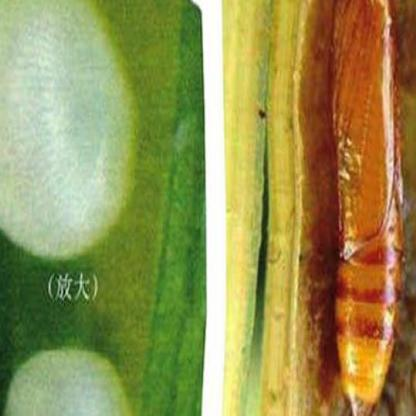whorl-maggot: (326, 0, 406, 416)
